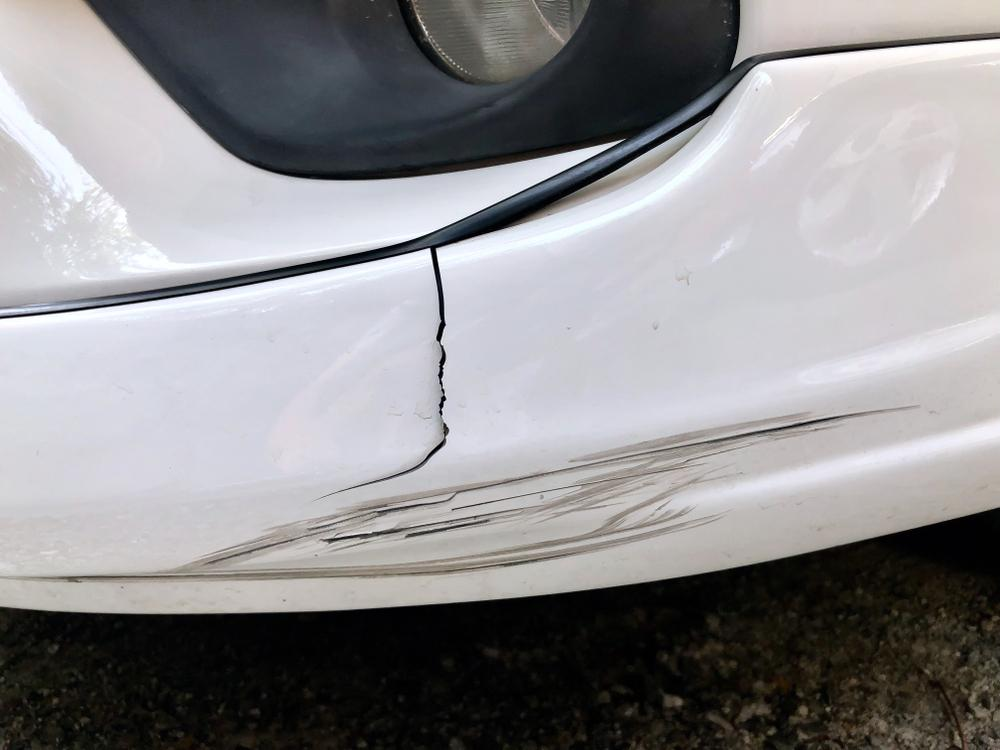crack: (307, 248, 450, 503)
dent: (788, 98, 955, 259)
scratch: (29, 407, 916, 585)
